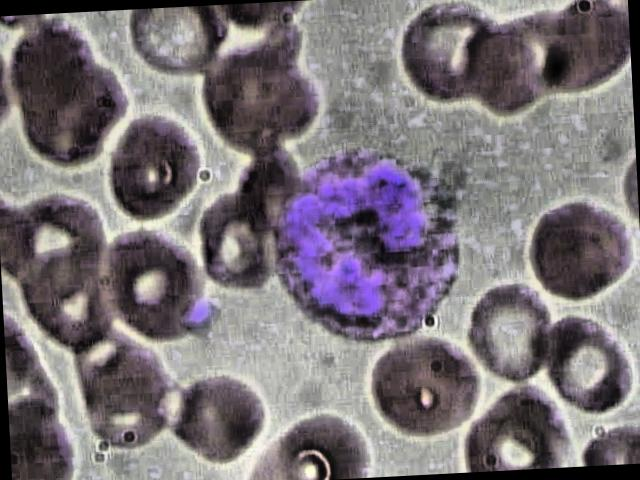Platelets: (184, 292, 224, 339)
RBC: (190, 38, 326, 162), (96, 220, 213, 352), (367, 328, 494, 442), (514, 196, 636, 308), (107, 112, 220, 225), (459, 278, 571, 392), (388, 0, 501, 108), (538, 306, 640, 421), (163, 372, 273, 469), (123, 6, 230, 80)
WBC: (266, 129, 478, 356)
